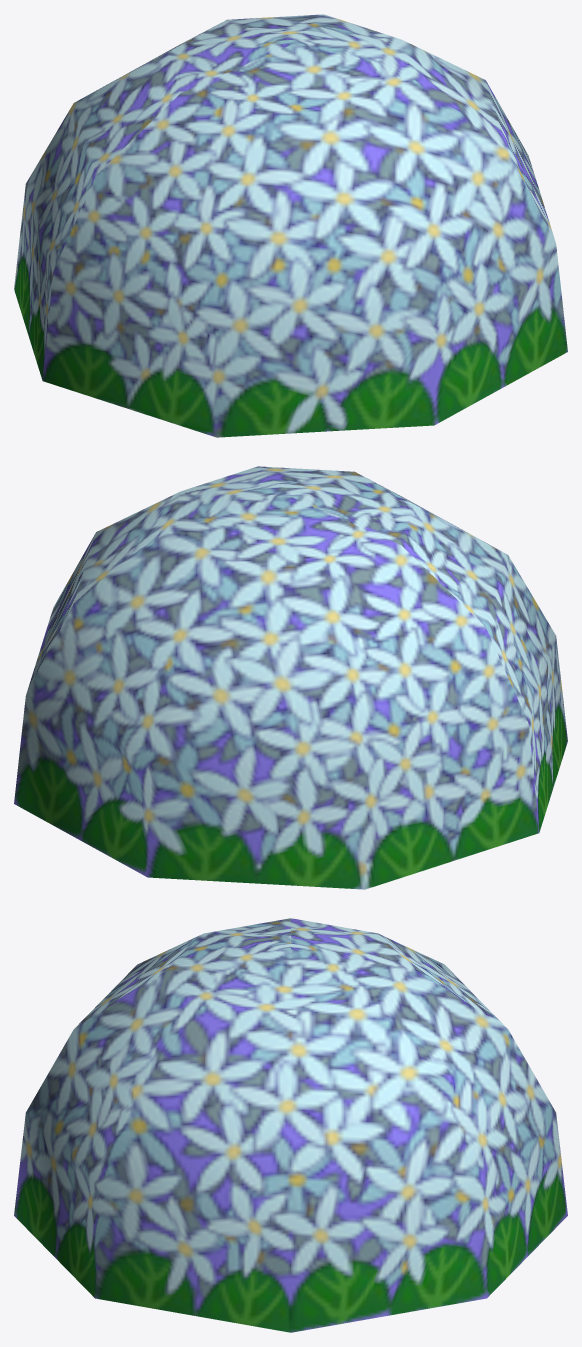
Rendered from huachong.fbx.
The picture shows the model from 3 angles, top to bottom: view 1: azimuth 30°, elevation 25°; view 2: azimuth 150°, elevation 25°; view 3: azimuth 270°, elevation 25°; orthographic projection. The views are drawn at different scales.
Parts seen in each view (by area): view 1: huachong; view 2: huachong; view 3: huachong.
Part boxes in pixels (x1=…): huachong: x1=14, y1=14, x2=567, y2=437; huachong: x1=14, y1=466, x2=567, y2=889; huachong: x1=14, y1=918, x2=567, y2=1332.
Size of the model in its own units: 8.43 by 4.47 by 8.43.
